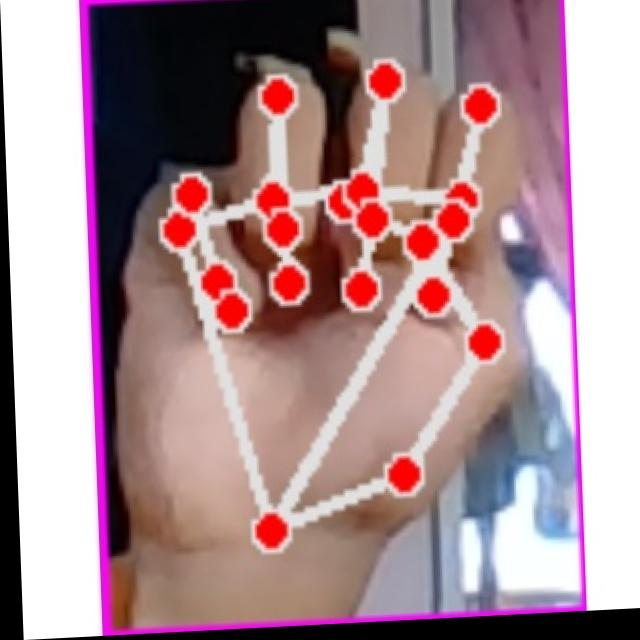M: (100, 31, 559, 600)
